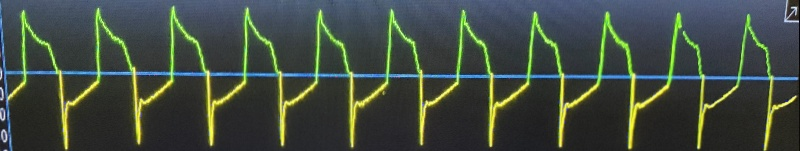peepi: (3, 0, 783, 151)
